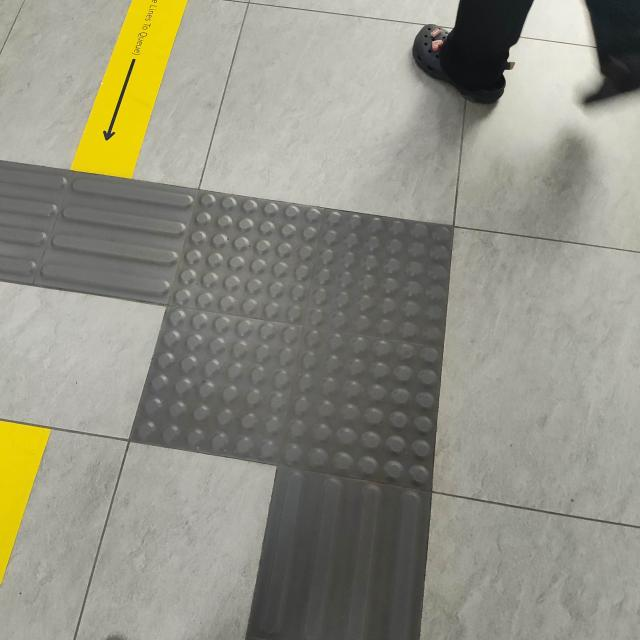kiri: (0, 111, 506, 577)
